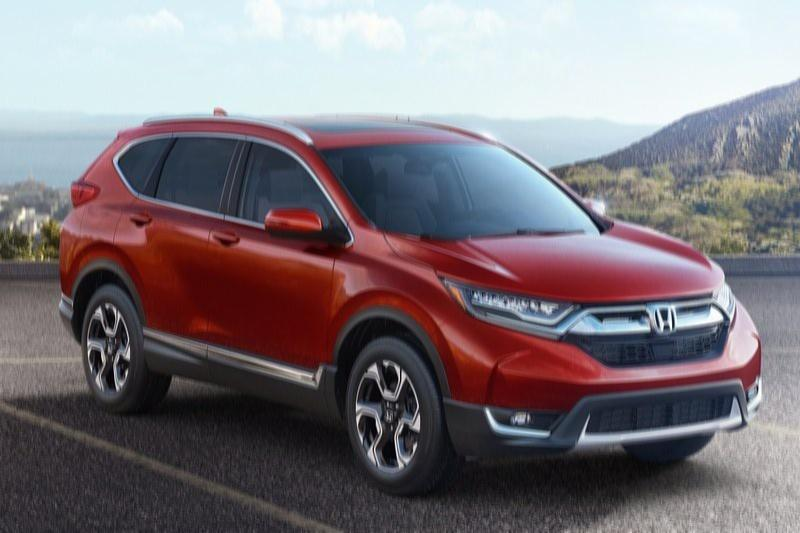Car hood: (383, 214, 732, 304)
Driver-s door - -F-R-: (211, 123, 328, 387)
Fender - -F-R-: (329, 213, 462, 414)
Fender - -R-R-: (66, 189, 129, 292)
Front bumper: (433, 329, 779, 465)
Headlight - -L-: (698, 275, 746, 324)
Headlight - -R-: (434, 270, 587, 343)
Passenger-s door - -R-R-: (114, 124, 210, 363)
Rear bumper: (45, 226, 81, 354)
Rear light - -R-: (60, 176, 105, 215)
Side bumper - -R-: (133, 321, 344, 422)
Side mirror - -L-: (574, 189, 613, 214)
Side mirror - -R-: (256, 196, 329, 248)
